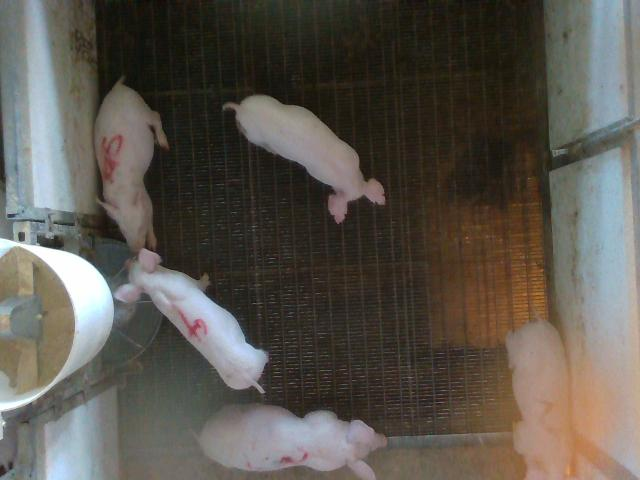pig-2: (506, 319, 572, 479)
pig-3: (198, 405, 386, 479)
pig-4: (115, 249, 268, 391)
pig-5: (95, 76, 169, 253)
